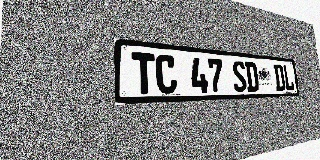4: (190, 57, 209, 93)
7: (207, 58, 224, 93)
C: (155, 54, 177, 94)
D: (245, 62, 259, 92), (273, 64, 286, 91)
L: (283, 65, 295, 91)
S: (231, 60, 247, 92)
T: (132, 52, 156, 95)
